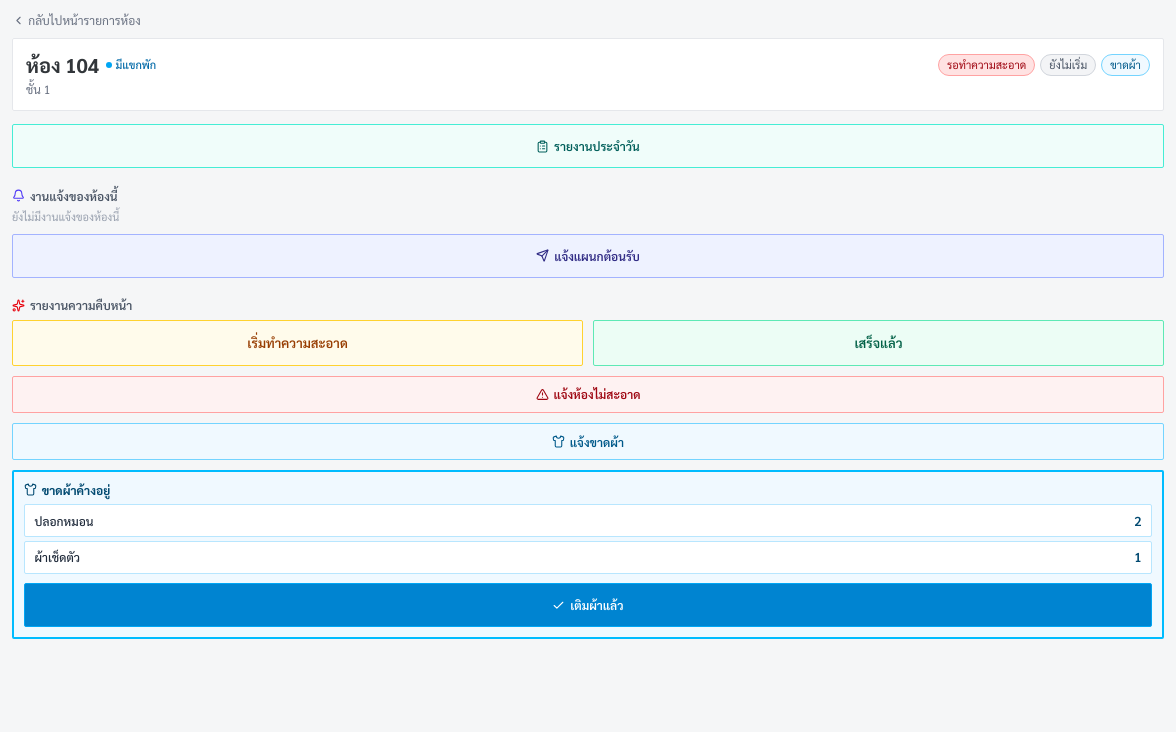
Test: ขาดผ้าค้างอยู่ card and เติมผ้าแล้ว › ยืนยัน resolves this room, re-fetches, and clears the card
Expected: the heading "ห้อง 104" is shown, [26,52,99,78]
Click the button "เติมผ้าแล้ว" at [588, 605], box [24,583,1152,627]
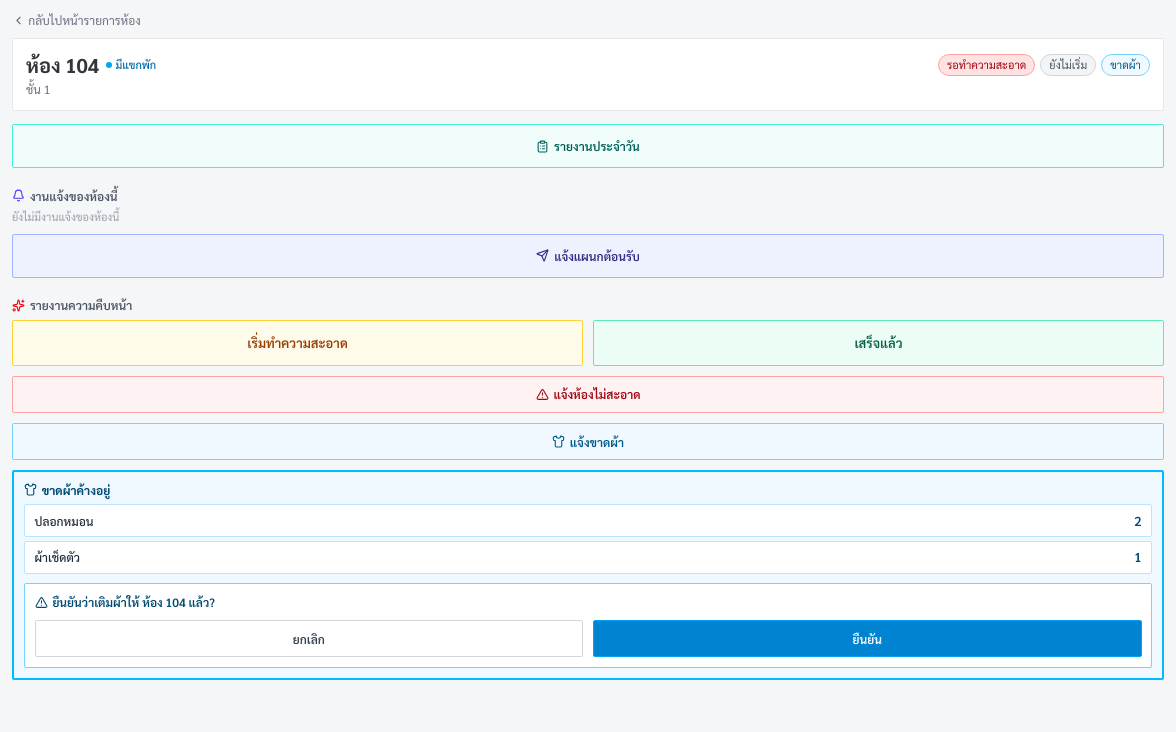
Expected: the text "ยืนยันว่าเติมผ้าให้ ห้อง 104 แล้ว?" is shown, [52,594,215,610]
Click the button "ยืนยัน" at [867, 639], box [593,620,1142,657]
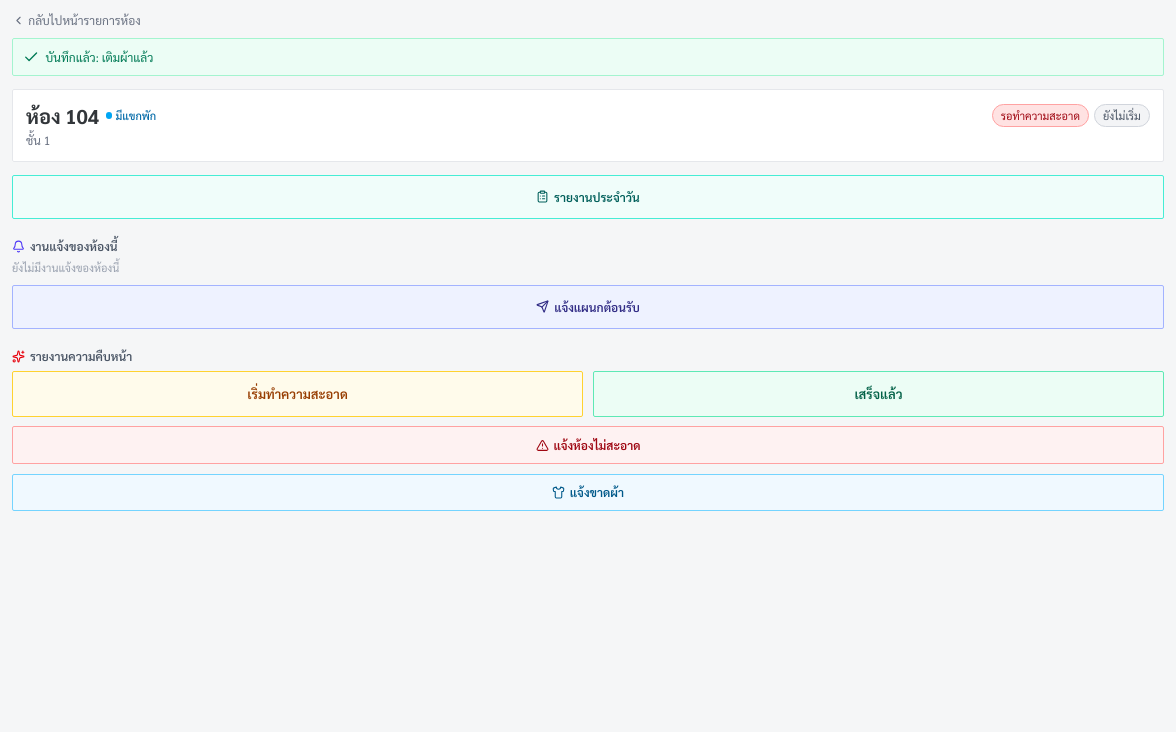
Expected: the text "บันทึกแล้ว: เติมผ้าแล้ว" is shown, [46,49,153,65]
Expected: the element with test id "hk-linen-open-card" is gone
